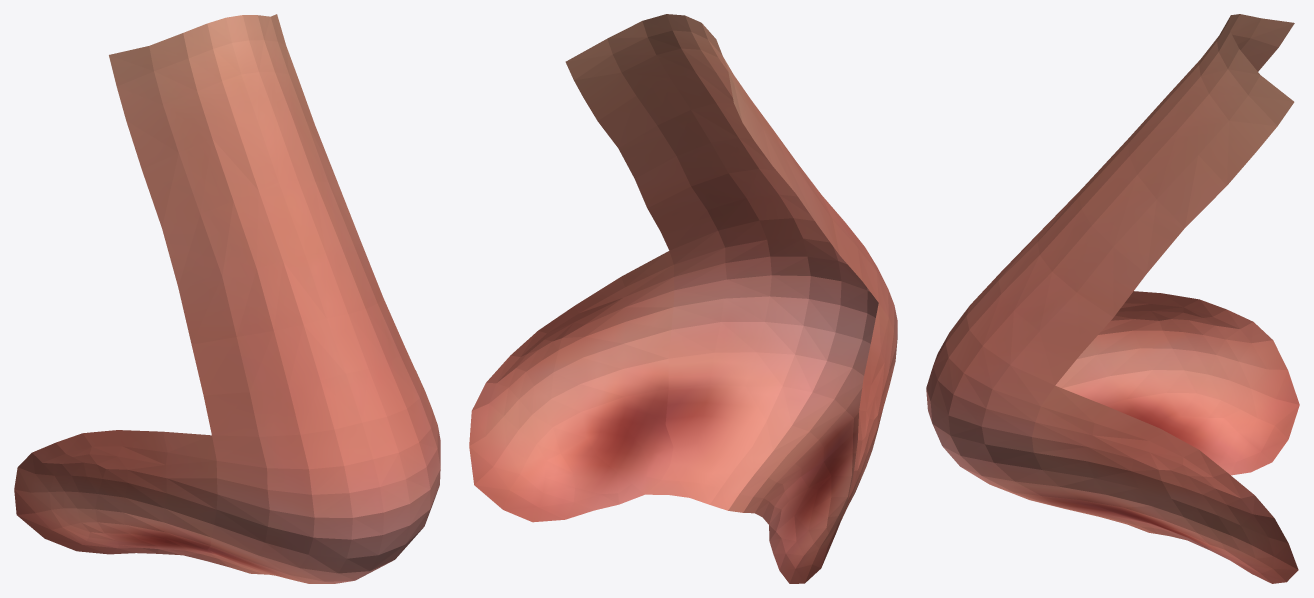
Rendered from euro-fem-nose-pointed.obj.
3 renders of one model, left to right at view 1: azimuth 30°, elevation 25°; view 2: azimuth 150°, elevation 25°; view 3: azimuth 270°, elevation 25°, orthographic. The views are drawn at different scales.
Parts seen in each view (by area): view 1: euro-fem-nose-pointed.001; view 2: euro-fem-nose-pointed.001; view 3: euro-fem-nose-pointed.001.
Boxes of the visible parts, x1,y1,x2,y2 form: euro-fem-nose-pointed.001: [14, 14, 440, 583]; euro-fem-nose-pointed.001: [469, 14, 897, 583]; euro-fem-nose-pointed.001: [926, 14, 1299, 583].
Size of the model in its own units: 0.184 by 0.2468 by 0.1649.
Materials: 1 (1 with a texture image).
